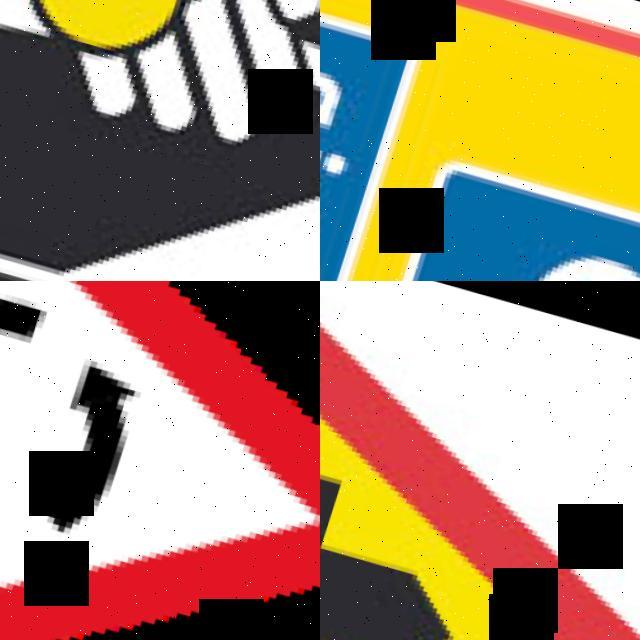12: (0, 0, 320, 281)
166: (320, 281, 640, 640)
Parking allowed for 15min: (320, 0, 640, 281)
Roundabout: (0, 281, 320, 640)
